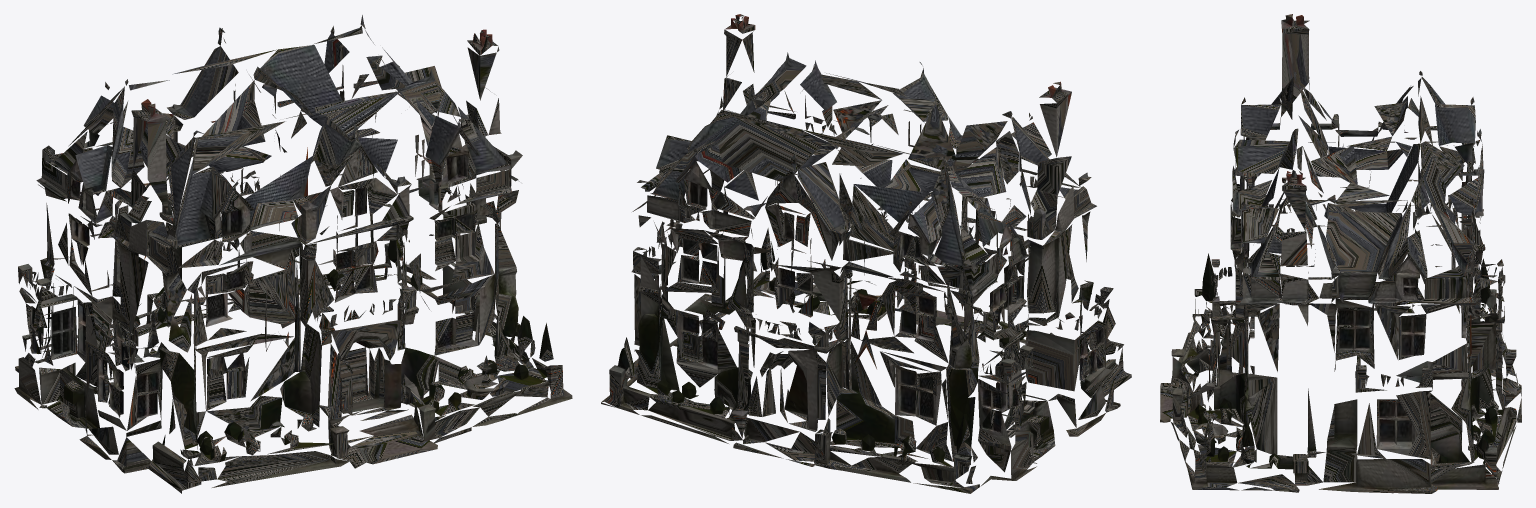
File: bld_house_player_legendary_a_LOD1.glb
3 views of the same model, side by side, from view 1: azimuth 30°, elevation 25°; view 2: azimuth 150°, elevation 25°; view 3: azimuth 270°, elevation 25° (orthographic). The views are drawn at different scales.
Visible parts, largest first — view 1: geometry_0; view 2: geometry_0; view 3: geometry_0.
Part boxes in pixels (x1,y1,x2,y2): geometry_0: [14, 15, 572, 493]; geometry_0: [601, 14, 1131, 493]; geometry_0: [1160, 14, 1521, 493].
Bounding box in the file's own units: 10.3 × 8 × 8.4.
Materials: 1 (1 with a texture image).
